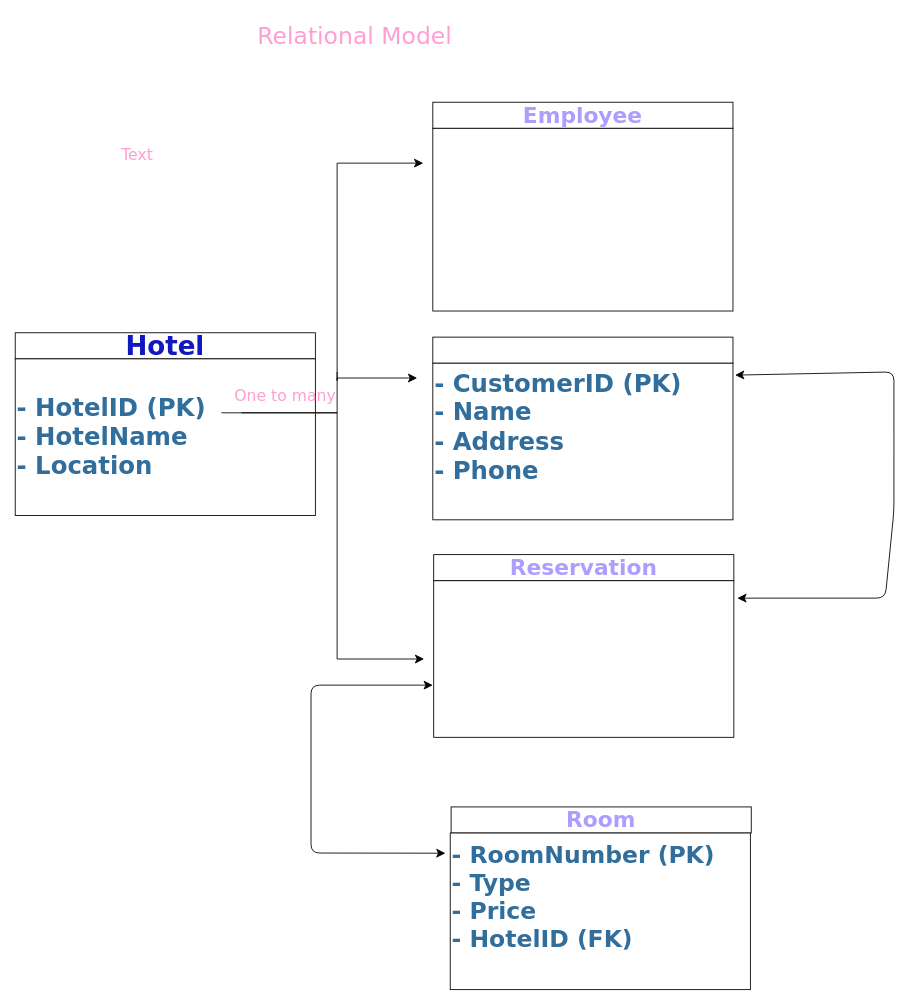
This 919x1005 diagram has some shape labels left out. The centre of each missing label's shape, as x and y in pixels:
"- EmployeeID (PK) - Name - Address - Phone - HotelID (FK)" goes at pixel 582 219.
"- ReservationID (PK) - Date - HotelID (FK) - RoomNumber (FK) - CustomerID (FK)" goes at pixel 583 658.
"Customer" goes at pixel 582 349.
